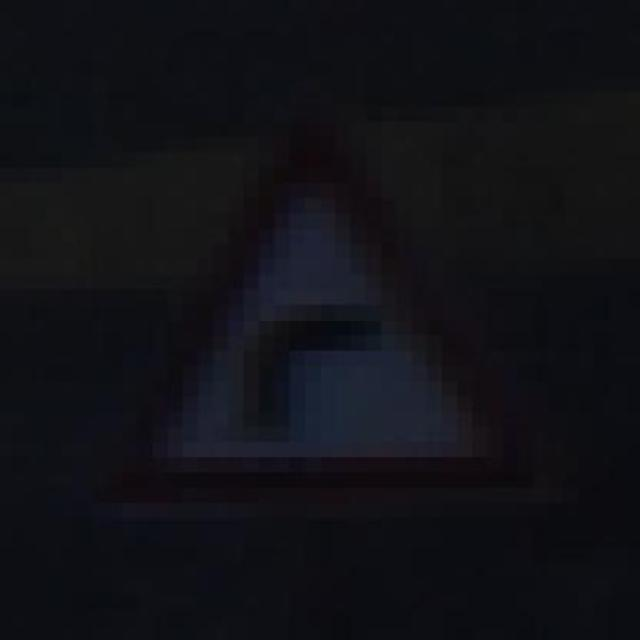Dangerous Rright Curve Ahead: (87, 101, 544, 513)
